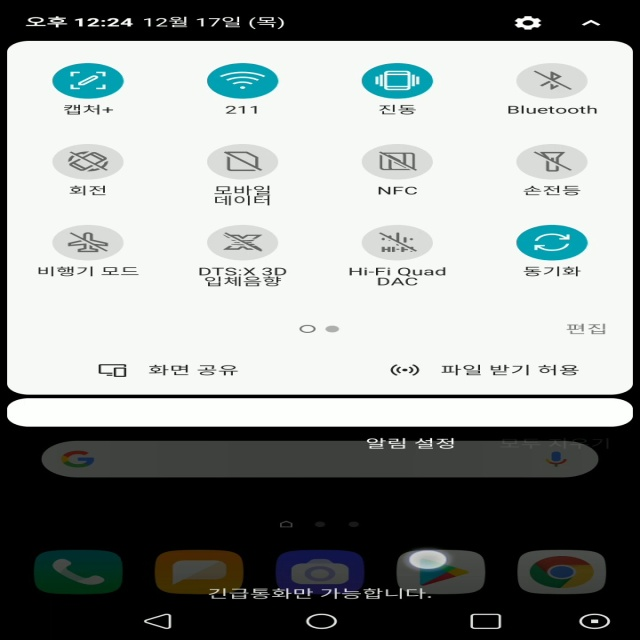Cursor: (405, 549, 449, 571)
